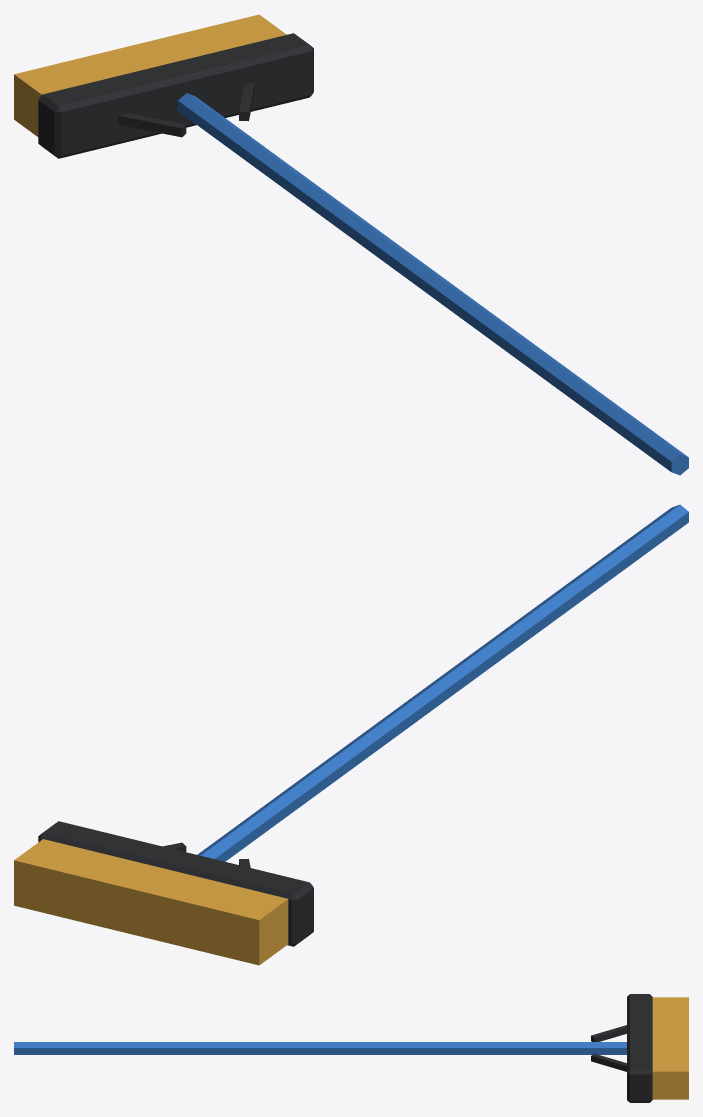
Rendered from prop_broom.glb.
3 views of the same model, one above another, from view 1: azimuth 30°, elevation 25°; view 2: azimuth 150°, elevation 25°; view 3: azimuth 270°, elevation 25° (orthographic). The views are drawn at different scales.
Parts seen in each view (by area): view 1: PropBroom; view 2: PropBroom; view 3: PropBroom.
Part boxes in pixels (left/top/right/bottom): PropBroom: left=14, top=14, right=688, bottom=475; PropBroom: left=14, top=504, right=688, bottom=965; PropBroom: left=14, top=994, right=688, bottom=1102.
Bounding box in the file's own units: 0.36 × 0.07 × 1.3.
